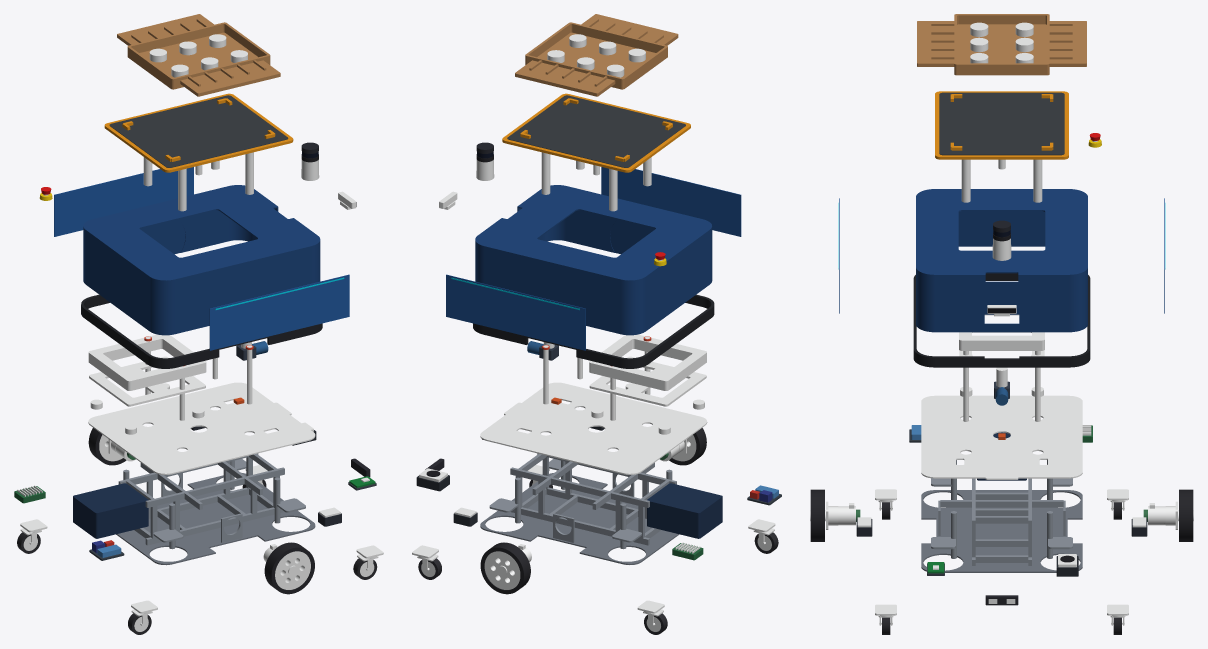
File: factory_delivery_amr_static_exploded.glb
3 views of the same model, side by side, from view 1: azimuth 30°, elevation 25°; view 2: azimuth 150°, elevation 25°; view 3: azimuth 270°, elevation 25° (orthographic). The views are drawn at different scales.
Visible parts, largest first — view 1: body_shell_main, chassis_top_deck, payload_20kg/payload_tray_with_wings, lift_moving_assembly/anti_slip_pad, skin_panel_right/skin_panel_right_body, chassis_core/chassis_bottom_plate, skin_panel_left/skin_panel_left_body, battery_pack_48v/battery_enclosure_48v_30ah, lift_fixed_frame/lift_fixed_part_2, perimeter_bumper_ring/bumper_segment, lift_fixed_frame/lift_fixed_part_1, lift_moving_assembly/lift_platform_deck_1 (+5 smaller); view 2: body_shell_main, chassis_top_deck, payload_20kg/payload_tray_with_wings, lift_moving_assembly/anti_slip_pad, skin_panel_left/skin_panel_left_body, chassis_core/chassis_bottom_plate, skin_panel_right/skin_panel_right_body, battery_pack_48v/battery_enclosure_48v_30ah, lift_fixed_frame/lift_fixed_part_2, perimeter_bumper_ring/bumper_segment, lift_fixed_frame/lift_fixed_part_1, lift_moving_assembly/lift_platform_deck_1 (+5 smaller); view 3: body_shell_main, chassis_top_deck, payload_20kg/payload_tray_with_wings, lift_moving_assembly/anti_slip_pad, chassis_core/chassis_bottom_plate, perimeter_bumper_ring/bumper_segment, lift_moving_assembly/lift_platform_deck_1, lift_fixed_frame/lift_fixed_part_2, chassis_core/frame_beam_20, drive_module_left/left_tire, drive_module_right/right_tire.
Boxes of the visible parts, box(x1,y1,x2,y2) form: body_shell_main: box(83, 185, 320, 335); chassis_top_deck: box(88, 382, 315, 474); payload_20kg/payload_tray_with_wings: box(117, 14, 280, 96); lift_moving_assembly/anti_slip_pad: box(109, 95, 288, 167); skin_panel_right/skin_panel_right_body: box(209, 274, 349, 350); chassis_core/chassis_bottom_plate: box(116, 472, 315, 565); skin_panel_left/skin_panel_left_body: box(54, 167, 193, 236); battery_pack_48v/battery_enclosure_48v_30ah: box(73, 483, 148, 538); lift_fixed_frame/lift_fixed_part_2: box(88, 334, 206, 390); perimeter_bumper_ring/bumper_segment: box(81, 294, 322, 368); lift_fixed_frame/lift_fixed_part_1: box(89, 356, 205, 406); lift_moving_assembly/lift_platform_deck_1: box(104, 93, 293, 172); body_shell_main: box(475, 185, 712, 335); chassis_top_deck: box(480, 382, 707, 474); payload_20kg/payload_tray_with_wings: box(515, 14, 678, 96); lift_moving_assembly/anti_slip_pad: box(507, 95, 685, 167); skin_panel_left/skin_panel_left_body: box(446, 274, 585, 350); chassis_core/chassis_bottom_plate: box(480, 473, 679, 564); skin_panel_right/skin_panel_right_body: box(601, 167, 741, 236); battery_pack_48v/battery_enclosure_48v_30ah: box(647, 483, 722, 538); lift_fixed_frame/lift_fixed_part_2: box(589, 334, 706, 390); perimeter_bumper_ring/bumper_segment: box(473, 294, 714, 368); lift_fixed_frame/lift_fixed_part_1: box(589, 356, 706, 406); lift_moving_assembly/lift_platform_deck_1: box(502, 93, 690, 172); body_shell_main: box(916, 189, 1087, 332); chassis_top_deck: box(921, 395, 1082, 479); payload_20kg/payload_tray_with_wings: box(917, 14, 1086, 75); lift_moving_assembly/anti_slip_pad: box(939, 92, 1064, 155); chassis_core/chassis_bottom_plate: box(921, 490, 1082, 572); perimeter_bumper_ring/bumper_segment: box(913, 273, 1090, 367); lift_moving_assembly/lift_platform_deck_1: box(935, 91, 1068, 159); lift_fixed_frame/lift_fixed_part_2: box(959, 314, 1044, 350); chassis_core/frame_beam_20: box(940, 500, 1063, 507); drive_module_left/left_tire: box(1179, 489, 1193, 541); drive_module_right/right_tire: box(810, 489, 824, 541).
Size of the model in its own units: 1.55 by 2.48 by 1.6.
